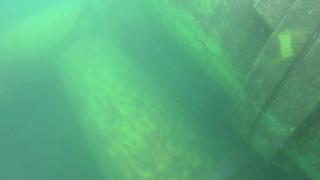pipe: (137, 1, 320, 180), (55, 38, 245, 180), (1, 1, 123, 73)
